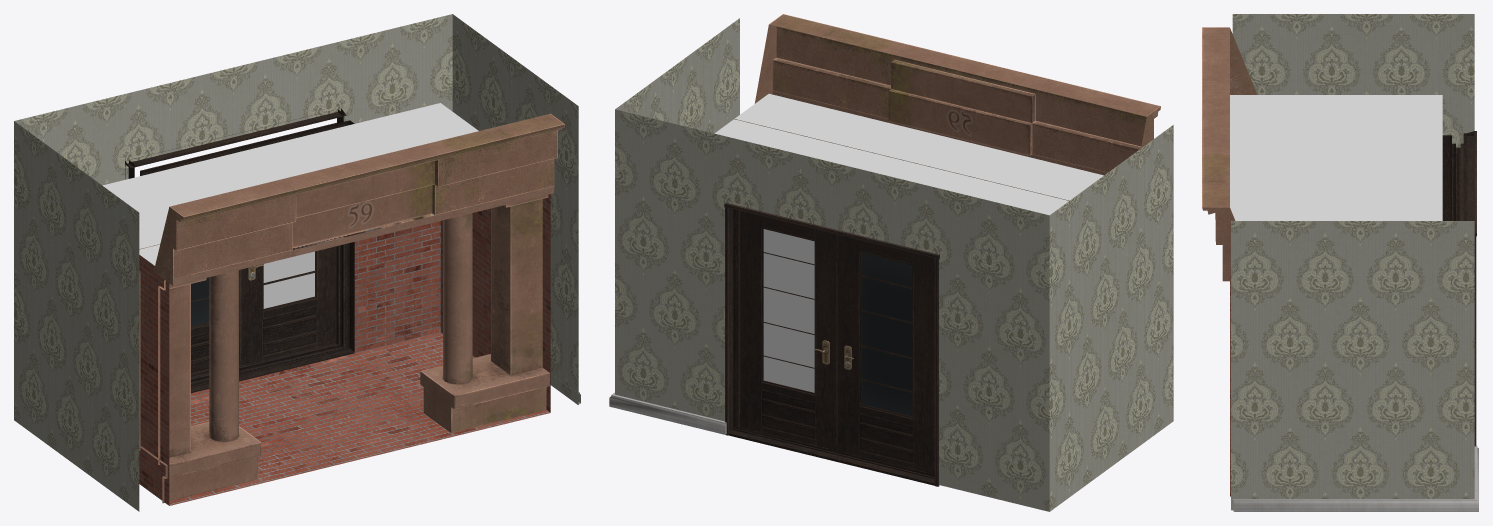
File: Porch_07.fbx
3 renders of one model, left to right at view 1: azimuth 30°, elevation 25°; view 2: azimuth 150°, elevation 25°; view 3: azimuth 270°, elevation 25°, orthographic. The views are drawn at different scales.
Parts seen in each view (by area): view 1: Porch_07_LOD0, Porch_05_Door_LOD0.002; view 2: Porch_07_LOD0, Porch_05_Door_LOD0.002; view 3: Porch_07_LOD0.
Part boxes in pixels (left/top/right/bottom): Porch_07_LOD0: left=14, top=14, right=580, bottom=511; Porch_05_Door_LOD0.002: left=239, top=122, right=337, bottom=365; Porch_07_LOD0: left=609, top=14, right=1173, bottom=511; Porch_05_Door_LOD0.002: left=739, top=210, right=837, bottom=451; Porch_07_LOD0: left=1202, top=14, right=1478, bottom=511.
Size of what is drawn, in the model's own units: 464 by 302 by 260.
